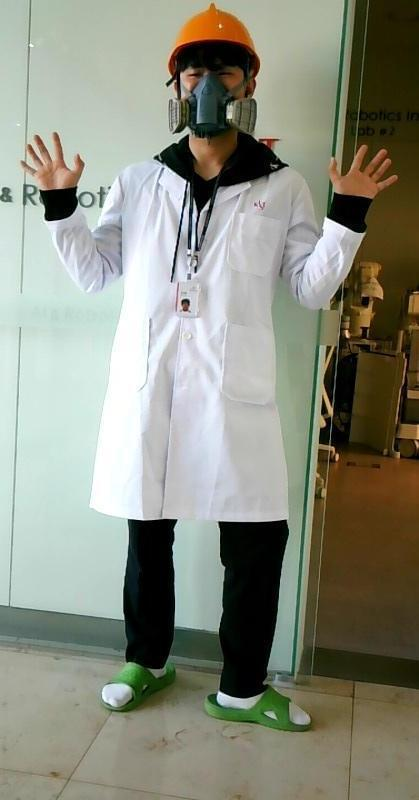lab_coat: (94, 162, 315, 520)
